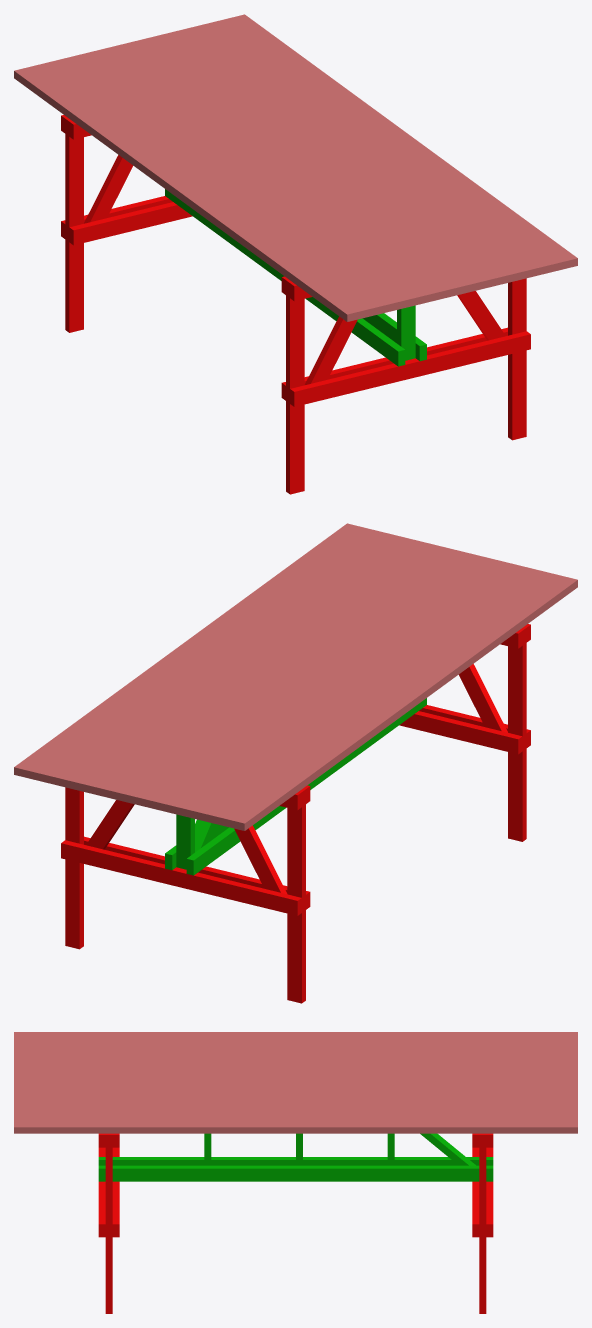
Rendered from result.glb.
3 renders of one model, top to bottom at view 1: azimuth 30°, elevation 25°; view 2: azimuth 150°, elevation 25°; view 3: azimuth 270°, elevation 25°, orthographic. The views are drawn at different scales.
Visible parts, largest first — view 1: 99e8b3cc-1242-47c3-9b35-f90e62d34007__Box, 193e4a57-27f1-4662-a3a4-ae689e4b5eb8__undefined, 6e36d1d3-9d15-40a3-9081-fd504407f91e__undefined, 30408604-ab86-4363-aff7-3e16ecd74663__undefined, 550f5eb6-666e-46e2-812c-205e3440fe88__undefined, 99615efb-39cf-4efd-ad53-192ec5fc3ee4__undefined, 6fa41234-df8a-4049-b185-02826265b959__undefined, 642c22cb-d50f-473e-925c-ce0addbfbf5a__undefined, fa1d0252-7f1c-4c8d-b7cf-c0d0a7973ada__undefined, 69fdcf8e-cf70-465a-a5de-d047e5caf0c3__undefined, 3b871a17-074e-45ba-94a6-bebc68135567__undefined, 11ee2d5b-751f-43bb-a75f-e638386b931f__undefined (+17 smaller); view 2: 99e8b3cc-1242-47c3-9b35-f90e62d34007__Box, 193e4a57-27f1-4662-a3a4-ae689e4b5eb8__undefined, 6e36d1d3-9d15-40a3-9081-fd504407f91e__undefined, 30408604-ab86-4363-aff7-3e16ecd74663__undefined, 550f5eb6-666e-46e2-812c-205e3440fe88__undefined, 99615efb-39cf-4efd-ad53-192ec5fc3ee4__undefined, 6fa41234-df8a-4049-b185-02826265b959__undefined, 642c22cb-d50f-473e-925c-ce0addbfbf5a__undefined, fa1d0252-7f1c-4c8d-b7cf-c0d0a7973ada__undefined, 69fdcf8e-cf70-465a-a5de-d047e5caf0c3__undefined, 3b871a17-074e-45ba-94a6-bebc68135567__undefined, 11ee2d5b-751f-43bb-a75f-e638386b931f__undefined (+16 smaller); view 3: 009fbcc0-b4b7-4d83-b307-5f6135b567c7__undefined, e775c078-ca88-4d6e-b5d7-f80889b813d3__strutH, 6e36d1d3-9d15-40a3-9081-fd504407f91e__undefined, 30d262a2-5241-413c-b967-a7def2359dd1__undefined, 69fdcf8e-cf70-465a-a5de-d047e5caf0c3__undefined, 30408604-ab86-4363-aff7-3e16ecd74663__undefined, fa1d0252-7f1c-4c8d-b7cf-c0d0a7973ada__undefined, ffc0b958-3a44-451f-8ae0-7f21e3f5bc2c__undefined, 550f5eb6-666e-46e2-812c-205e3440fe88__undefined, 3b871a17-074e-45ba-94a6-bebc68135567__undefined, 99e8b3cc-1242-47c3-9b35-f90e62d34007__Box, 193e4a57-27f1-4662-a3a4-ae689e4b5eb8__undefined (+13 smaller).
Boxes of the visible parts, x1,y1,x2,y2 form: 99e8b3cc-1242-47c3-9b35-f90e62d34007__Box: [14, 67, 361, 321]; 193e4a57-27f1-4662-a3a4-ae689e4b5eb8__undefined: [28, 63, 375, 318]; 6e36d1d3-9d15-40a3-9081-fd504407f91e__undefined: [115, 42, 462, 297]; 30408604-ab86-4363-aff7-3e16ecd74663__undefined: [158, 32, 505, 286]; 550f5eb6-666e-46e2-812c-205e3440fe88__undefined: [202, 21, 548, 276]; 99615efb-39cf-4efd-ad53-192ec5fc3ee4__undefined: [43, 60, 390, 314]; 6fa41234-df8a-4049-b185-02826265b959__undefined: [72, 53, 419, 307]; 642c22cb-d50f-473e-925c-ce0addbfbf5a__undefined: [86, 49, 433, 304]; fa1d0252-7f1c-4c8d-b7cf-c0d0a7973ada__undefined: [173, 28, 520, 283]; 69fdcf8e-cf70-465a-a5de-d047e5caf0c3__undefined: [144, 35, 491, 290]; 3b871a17-074e-45ba-94a6-bebc68135567__undefined: [216, 18, 563, 272]; 11ee2d5b-751f-43bb-a75f-e638386b931f__undefined: [57, 56, 404, 311]; 99e8b3cc-1242-47c3-9b35-f90e62d34007__Box: [230, 576, 577, 830]; 193e4a57-27f1-4662-a3a4-ae689e4b5eb8__undefined: [216, 572, 563, 827]; 6e36d1d3-9d15-40a3-9081-fd504407f91e__undefined: [129, 551, 476, 806]; 30408604-ab86-4363-aff7-3e16ecd74663__undefined: [86, 541, 433, 795]; 550f5eb6-666e-46e2-812c-205e3440fe88__undefined: [43, 530, 389, 785]; 99615efb-39cf-4efd-ad53-192ec5fc3ee4__undefined: [201, 569, 548, 823]; 6fa41234-df8a-4049-b185-02826265b959__undefined: [172, 562, 519, 816]; 642c22cb-d50f-473e-925c-ce0addbfbf5a__undefined: [158, 558, 505, 813]; fa1d0252-7f1c-4c8d-b7cf-c0d0a7973ada__undefined: [71, 537, 418, 792]; 69fdcf8e-cf70-465a-a5de-d047e5caf0c3__undefined: [100, 544, 447, 799]; 3b871a17-074e-45ba-94a6-bebc68135567__undefined: [28, 527, 375, 781]; 11ee2d5b-751f-43bb-a75f-e638386b931f__undefined: [187, 565, 534, 820]; 009fbcc0-b4b7-4d83-b307-5f6135b567c7__undefined: [14, 1121, 577, 1133]; e775c078-ca88-4d6e-b5d7-f80889b813d3__strutH: [98, 1165, 493, 1181]; 6e36d1d3-9d15-40a3-9081-fd504407f91e__undefined: [14, 1073, 577, 1079]; 30d262a2-5241-413c-b967-a7def2359dd1__undefined: [14, 1079, 577, 1085]; 69fdcf8e-cf70-465a-a5de-d047e5caf0c3__undefined: [14, 1085, 577, 1091]; 30408604-ab86-4363-aff7-3e16ecd74663__undefined: [14, 1091, 577, 1097]; fa1d0252-7f1c-4c8d-b7cf-c0d0a7973ada__undefined: [14, 1097, 577, 1103]; ffc0b958-3a44-451f-8ae0-7f21e3f5bc2c__undefined: [14, 1103, 577, 1109]; 550f5eb6-666e-46e2-812c-205e3440fe88__undefined: [14, 1109, 577, 1115]; 3b871a17-074e-45ba-94a6-bebc68135567__undefined: [14, 1115, 577, 1121]; 99e8b3cc-1242-47c3-9b35-f90e62d34007__Box: [14, 1032, 577, 1037]; 193e4a57-27f1-4662-a3a4-ae689e4b5eb8__undefined: [14, 1038, 577, 1043].
Bounding box in the file's own units: 820 × 725 × 2000.
